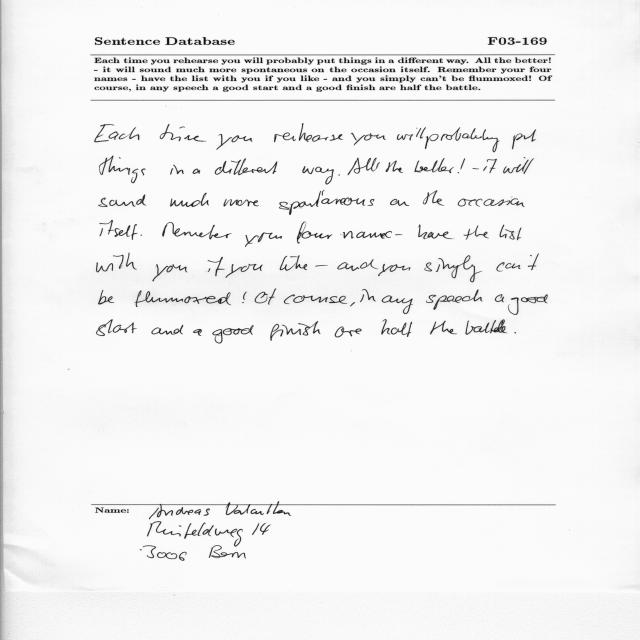word: (279, 190, 374, 215), (425, 128, 500, 153), (135, 290, 231, 307), (425, 256, 483, 283), (274, 124, 343, 143), (100, 156, 145, 183), (426, 289, 483, 310), (162, 222, 232, 239), (215, 159, 277, 176), (270, 321, 321, 341), (508, 294, 548, 315), (212, 325, 254, 344), (95, 125, 139, 143), (160, 124, 206, 141), (496, 254, 539, 272), (297, 222, 332, 244), (100, 220, 138, 240), (97, 253, 137, 272), (466, 319, 508, 335), (458, 197, 525, 207), (97, 320, 137, 336), (284, 294, 347, 304), (153, 264, 187, 282), (99, 194, 146, 207), (302, 166, 334, 185), (414, 158, 454, 173), (382, 295, 413, 314), (217, 134, 253, 150), (347, 158, 380, 175), (381, 319, 412, 337), (170, 193, 209, 207), (418, 225, 454, 240), (503, 157, 534, 174), (245, 233, 282, 247), (226, 264, 263, 278), (337, 259, 378, 271), (512, 130, 536, 150), (280, 255, 307, 271), (351, 133, 386, 145), (340, 231, 392, 239), (463, 225, 489, 240), (378, 264, 410, 276), (397, 128, 426, 141), (430, 321, 457, 334), (255, 289, 276, 305), (500, 225, 522, 240), (208, 257, 225, 276), (152, 325, 184, 335), (423, 191, 444, 206), (335, 327, 362, 338), (224, 199, 259, 207), (99, 290, 114, 304), (360, 289, 376, 302), (386, 161, 403, 173), (483, 159, 497, 173), (170, 165, 184, 175), (390, 199, 409, 206), (458, 159, 465, 174), (495, 294, 504, 302), (193, 329, 202, 336), (242, 292, 247, 303), (193, 169, 200, 174), (315, 265, 328, 267), (350, 302, 355, 307), (395, 234, 403, 235), (473, 168, 479, 169), (338, 175, 340, 176), (140, 235, 142, 236), (515, 332, 516, 333)
